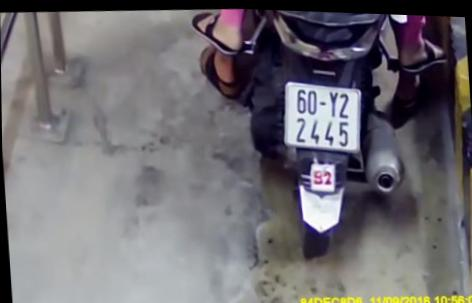LP: (279, 71, 366, 155)
